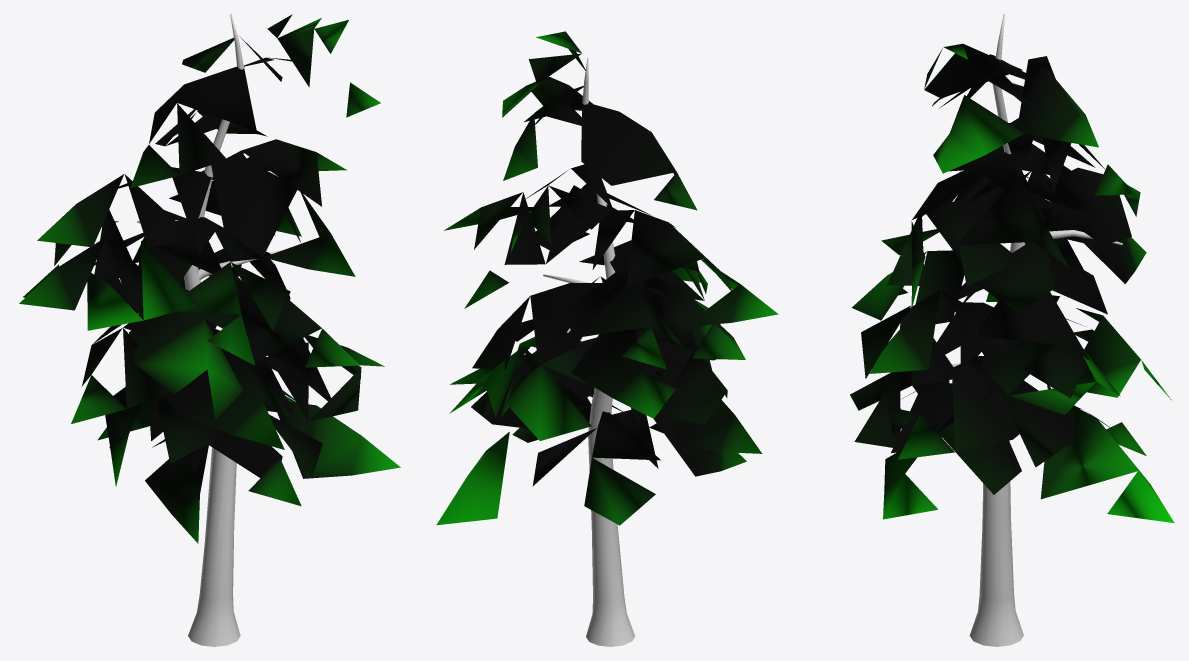
The model's file is tree_3_slim.glb.
The picture shows the model from 3 angles, left to right: view 1: azimuth 30°, elevation 25°; view 2: azimuth 150°, elevation 25°; view 3: azimuth 270°, elevation 25°; orthographic projection. The views are drawn at different scales.
Parts seen in each view (by area): view 1: tree_3_slim; view 2: tree_3_slim; view 3: tree_3_slim.
Part boxes in pixels (x1,y1,x2,y2): tree_3_slim: [19, 14, 400, 646]; tree_3_slim: [436, 31, 778, 646]; tree_3_slim: [850, 14, 1174, 646].
Bounding box in the file's own units: 1.4 × 2.4 × 1.26.
